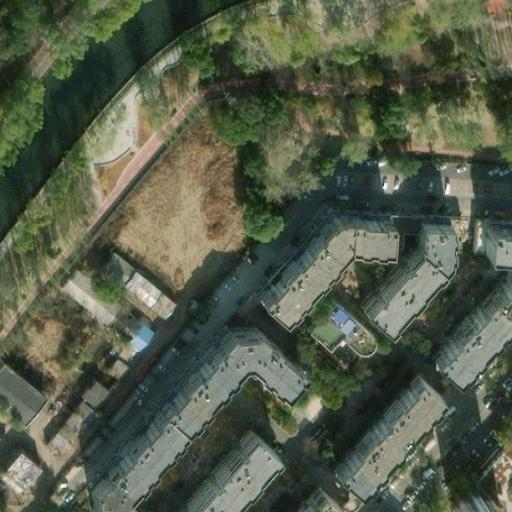building: (79, 328, 287, 512), (421, 223, 512, 380), (245, 215, 377, 318), (240, 206, 377, 300), (325, 375, 427, 490), (349, 220, 439, 331), (50, 255, 151, 347), (166, 427, 267, 512), (36, 351, 122, 450), (89, 243, 180, 324), (299, 301, 369, 354), (464, 432, 512, 502), (376, 209, 467, 244), (0, 364, 33, 418), (283, 484, 331, 512), (447, 491, 493, 512)
